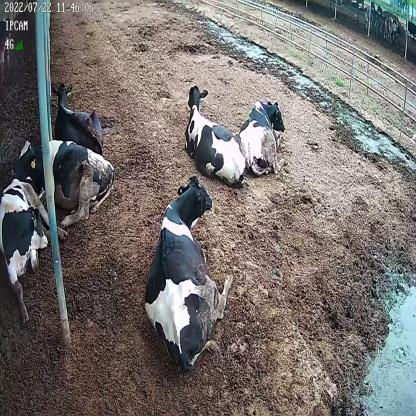cow: (144, 173, 235, 368), (12, 137, 115, 231), (0, 177, 64, 323), (184, 81, 246, 192), (47, 77, 107, 152), (238, 98, 286, 177)
